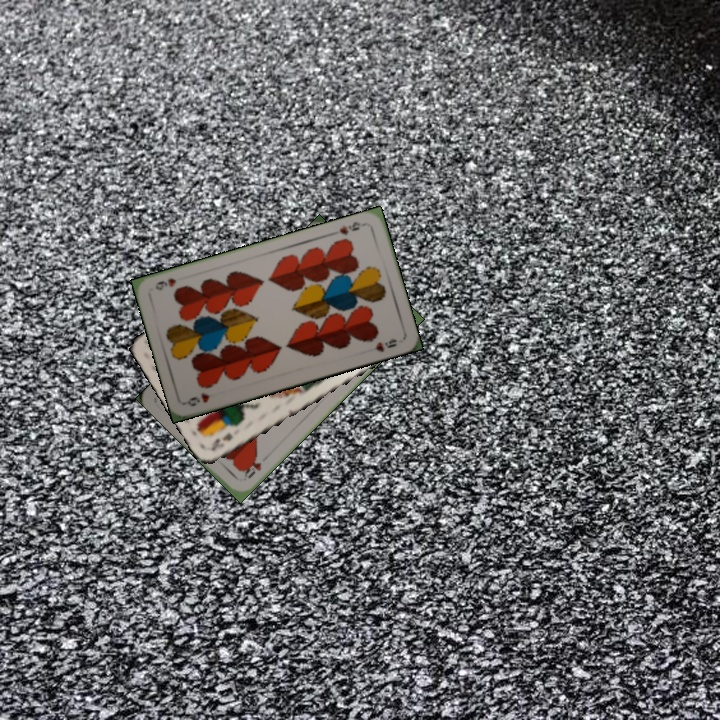EK: (207, 429, 235, 453)
H9: (183, 389, 213, 409), (335, 217, 363, 238)
HO: (239, 455, 264, 481)
